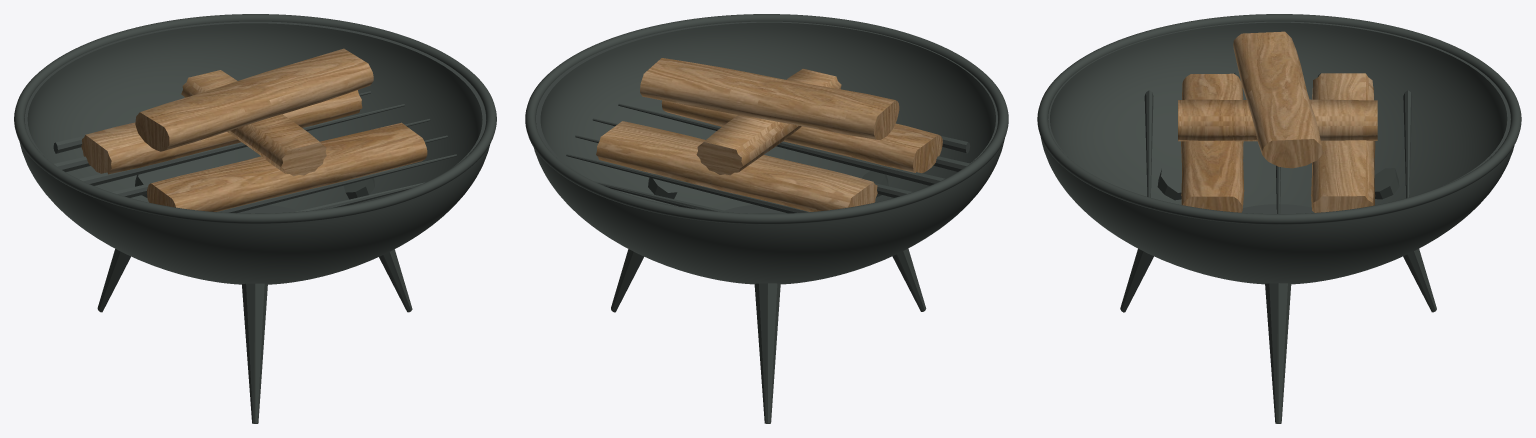
File: patio-fire-bowl.glb
The picture shows the model from 3 angles, left to right: view 1: azimuth 30°, elevation 25°; view 2: azimuth 150°, elevation 25°; view 3: azimuth 270°, elevation 25°; orthographic projection.
Visible parts, largest first — view 1: catalog_surface_RealismUV; view 2: catalog_surface_RealismUV; view 3: catalog_surface_RealismUV.
Part boxes in pixels (left/top/right/bottom): catalog_surface_RealismUV: left=14, top=14, right=496, bottom=423; catalog_surface_RealismUV: left=525, top=14, right=1008, bottom=423; catalog_surface_RealismUV: left=1037, top=14, right=1521, bottom=423.
Bounding box in the file's own units: 0.8 × 0.48 × 0.8.
Materials: 2 (1 with a texture image).
